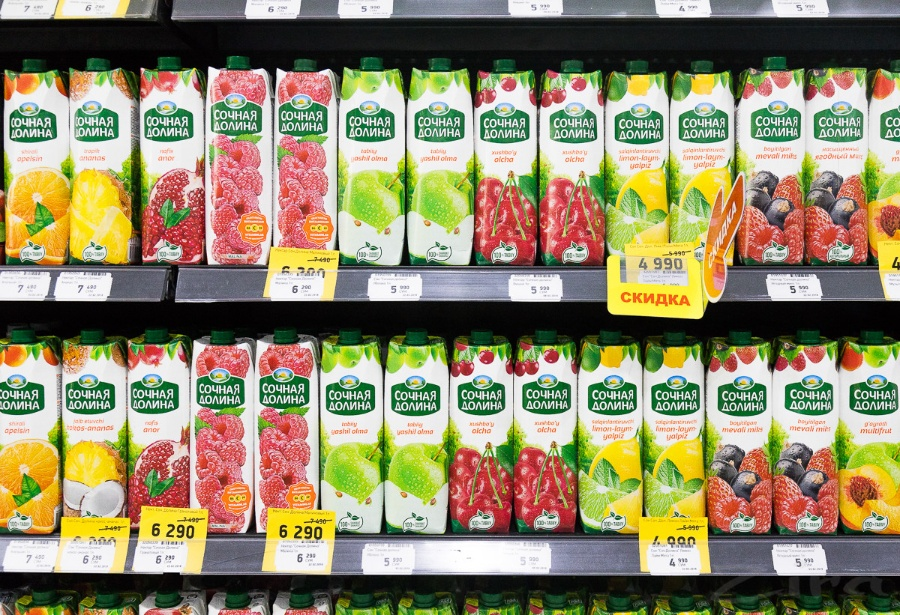juice: (329, 57, 414, 272), (198, 51, 278, 271), (400, 56, 481, 271), (65, 58, 146, 271), (1, 58, 81, 272), (381, 326, 458, 541), (767, 330, 844, 539), (138, 57, 213, 271), (186, 325, 258, 547), (739, 50, 812, 267), (805, 55, 877, 274), (448, 327, 520, 544), (538, 53, 609, 273), (471, 55, 542, 274), (1, 323, 71, 541), (52, 323, 129, 521), (510, 330, 583, 538), (661, 47, 740, 238), (119, 321, 197, 514), (707, 331, 778, 543), (580, 329, 650, 540), (319, 325, 388, 536), (836, 325, 900, 541), (641, 329, 710, 527), (271, 53, 335, 254), (603, 48, 666, 252), (254, 323, 318, 515)
